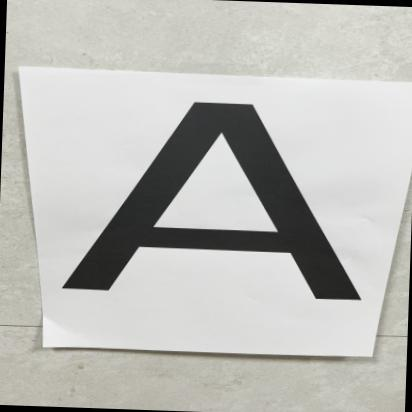seat: (57, 92, 400, 321)
